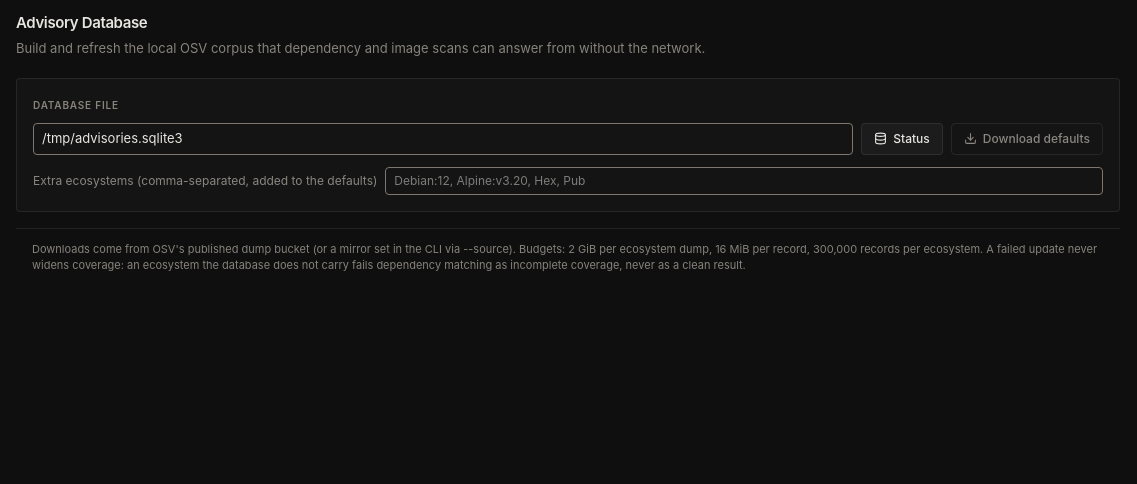
reports unavailable progress without preventing database status reads
Click the button "Status": x=902, y=138 left=861, top=122, right=943, bottom=154
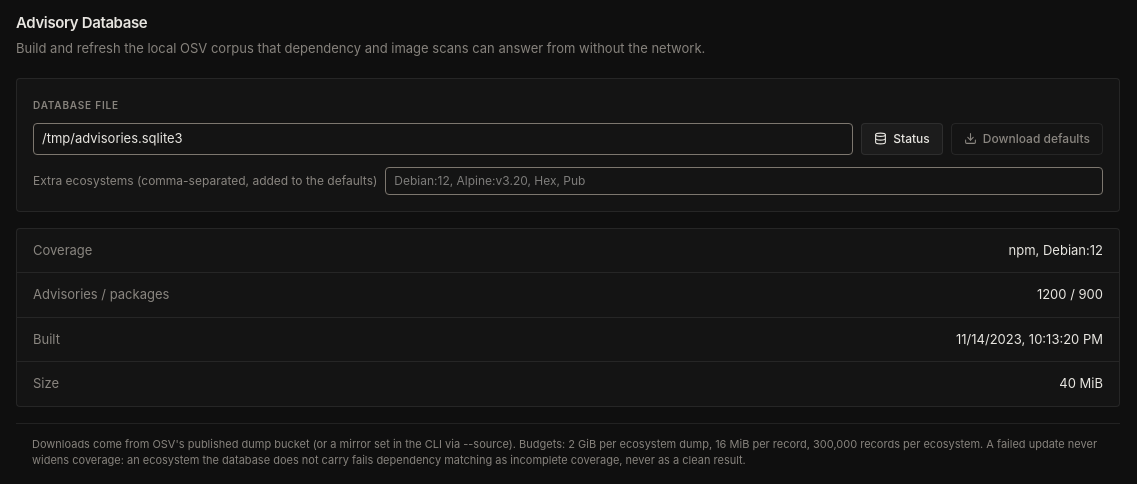
Expected: the text "1200 / 900" is shown, left=1037, top=285, right=1103, bottom=304
